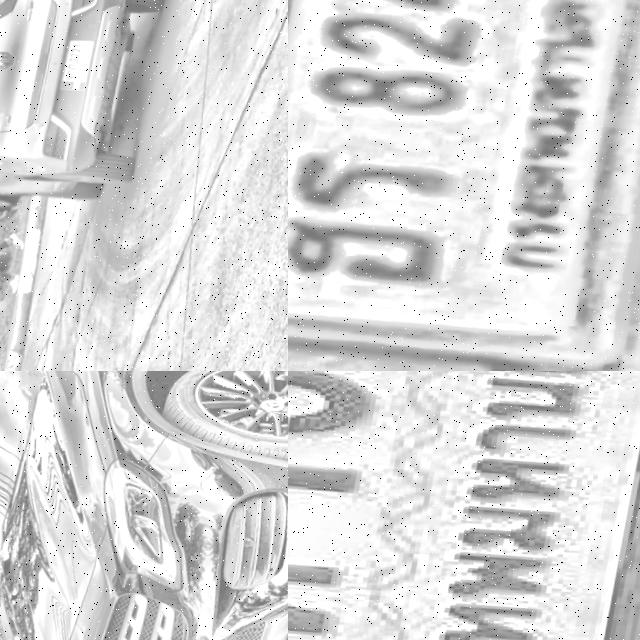license-plate: (288, 0, 640, 371), (288, 371, 640, 640), (61, 37, 102, 96)
